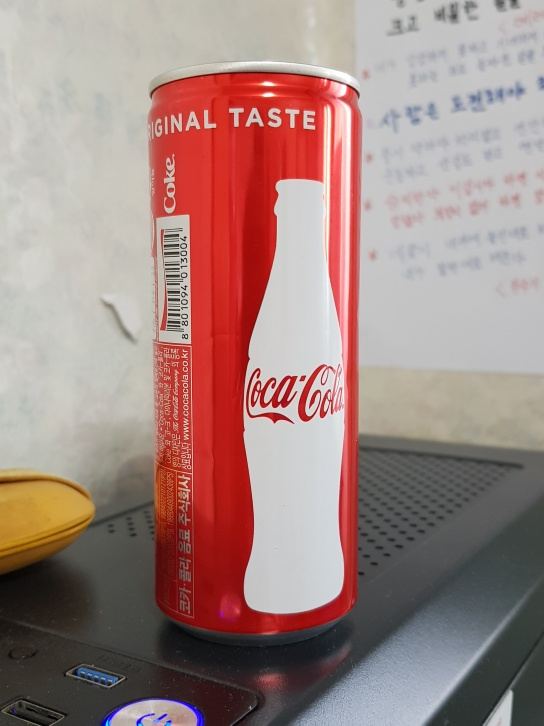Can: (145, 59, 367, 643)
